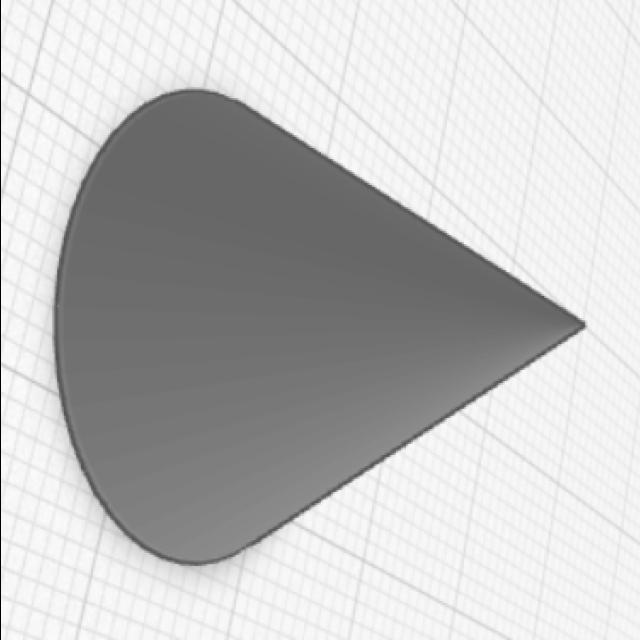cone: (47, 82, 592, 574)
